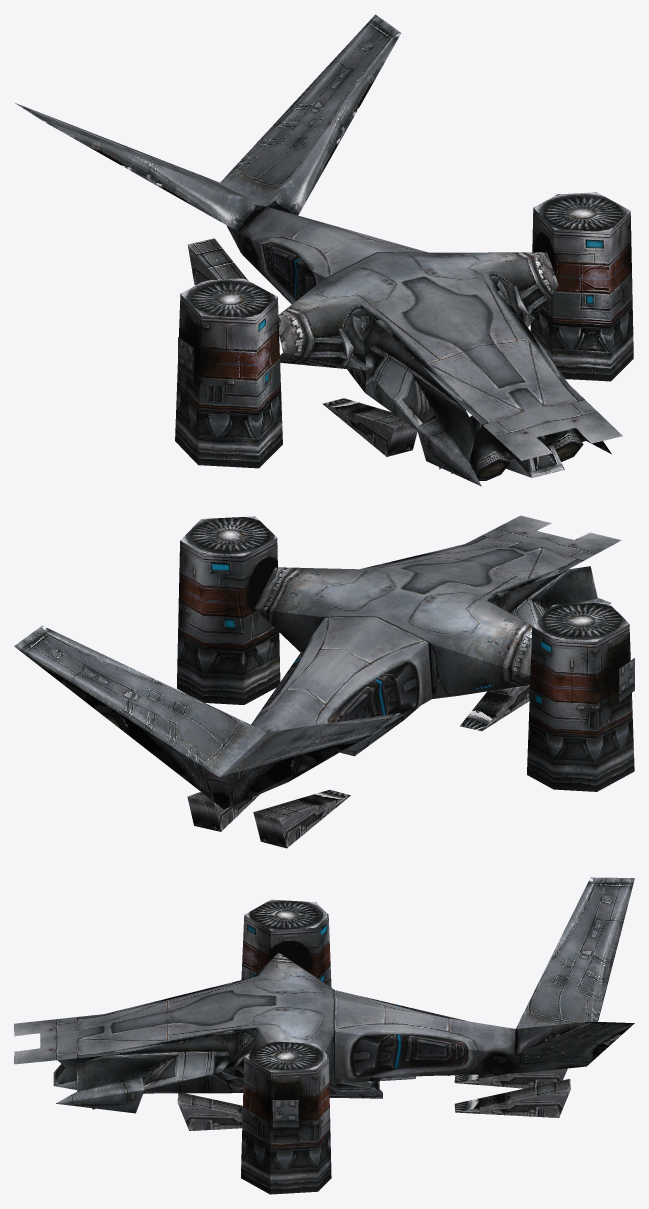
The model's file is Prop_Plane01_lod2.glb.
3 views of the same model, one above another, from view 1: azimuth 30°, elevation 25°; view 2: azimuth 150°, elevation 25°; view 3: azimuth 270°, elevation 25° (orthographic). The views are drawn at different scales.
Parts seen in each view (by area): view 1: pvp_legionwar_plane01_lod2; view 2: pvp_legionwar_plane01_lod2; view 3: pvp_legionwar_plane01_lod2.
Boxes of the visible parts, left/top/right/bottom form: pvp_legionwar_plane01_lod2: left=15, top=14, right=633, bottom=486; pvp_legionwar_plane01_lod2: left=14, top=515, right=634, bottom=848; pvp_legionwar_plane01_lod2: left=14, top=877, right=634, bottom=1194.
Size of the model in its own units: 29.72 by 12.36 by 44.05.
Materials: 1 (1 with a texture image).
